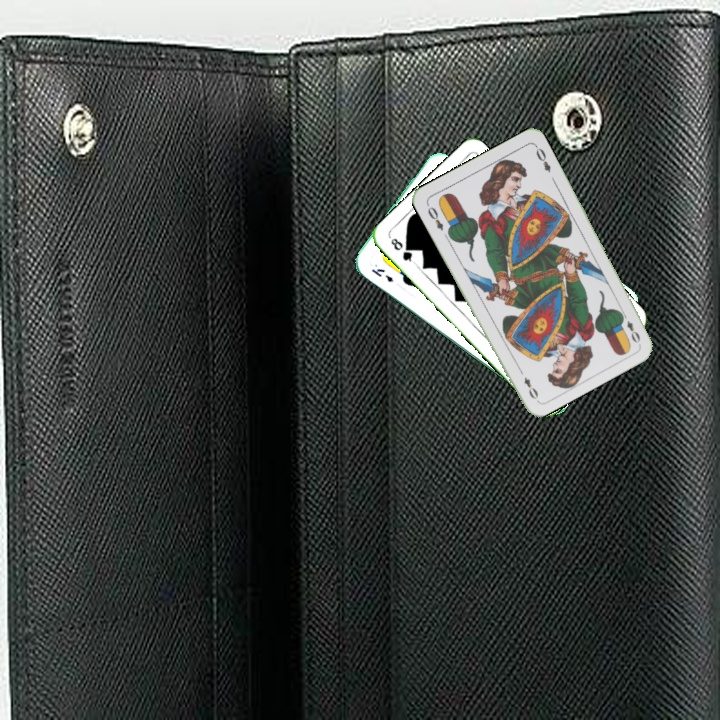EK: (368, 264, 396, 285)
EO: (618, 308, 643, 346), (424, 202, 446, 233)
G8: (387, 234, 417, 266)
